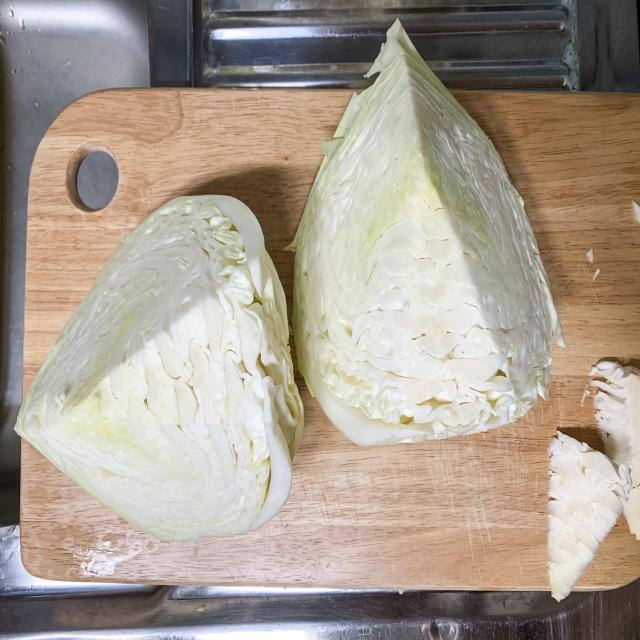haft-cabbage: (290, 40, 558, 438), (14, 189, 307, 536)
